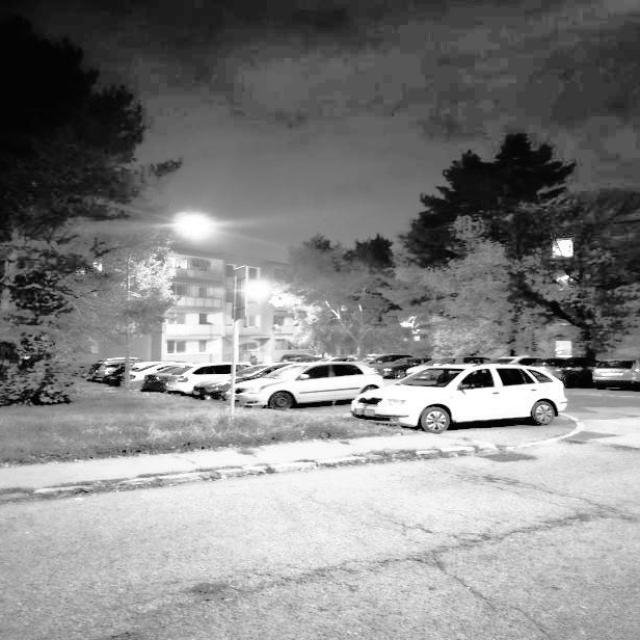Light: (120, 216, 214, 407), (228, 284, 272, 421)
